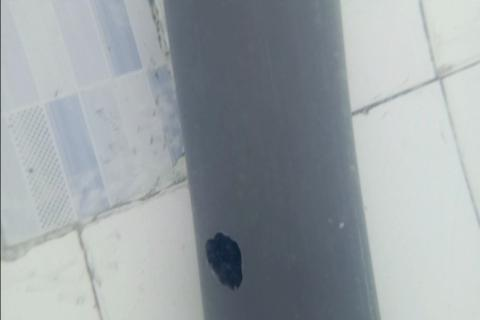kebocoran: (204, 230, 244, 292)
